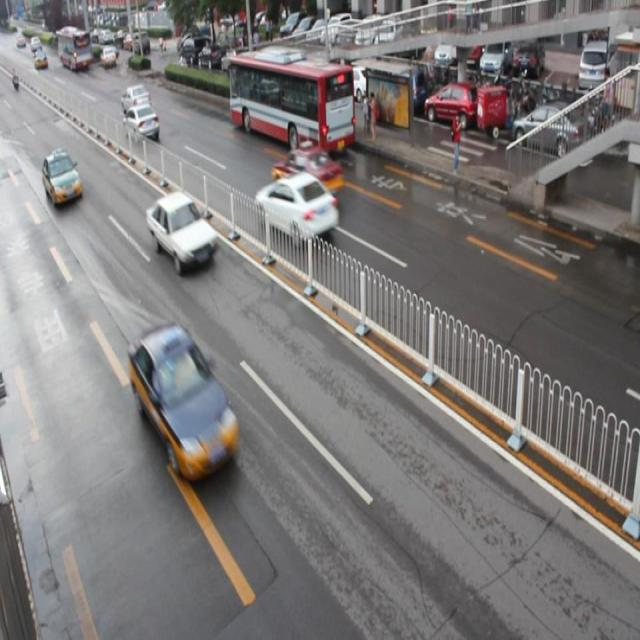car: (129, 320, 239, 478), (254, 170, 338, 245), (147, 190, 218, 266), (271, 143, 343, 198), (43, 147, 83, 207), (124, 101, 160, 142), (121, 82, 151, 114)
van: (229, 53, 354, 153)
